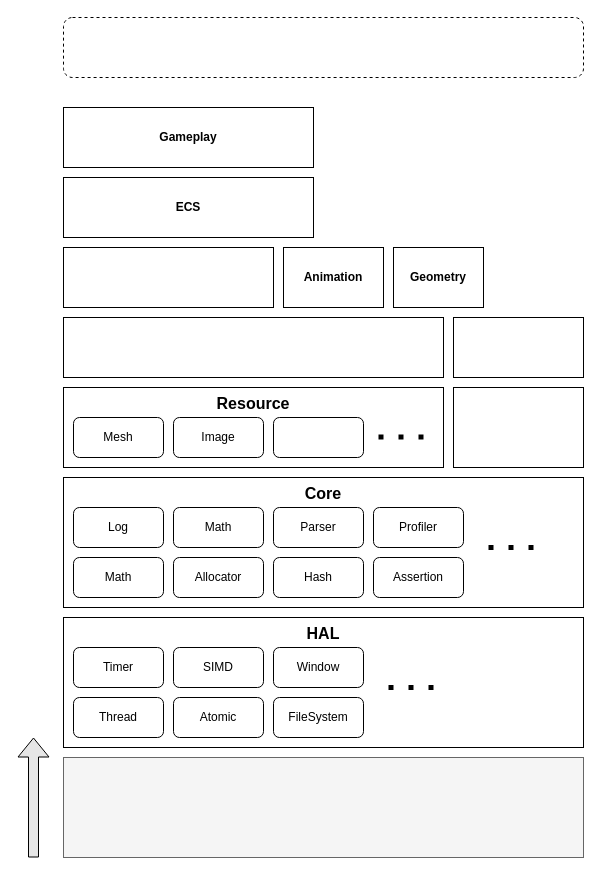
Some shapes in this 601 by 875 pixel diagram are drawn without their labels. Here are the shapes that lost their labels. From the top down, the centre of each, then its label:
point 323,47: Editor
point 168,277: Renderer
point 253,347: RHI
point 518,347: Physics
point 318,437: Material
point 518,427: ShaderSystem
point 323,807: HW/Driver/OS
